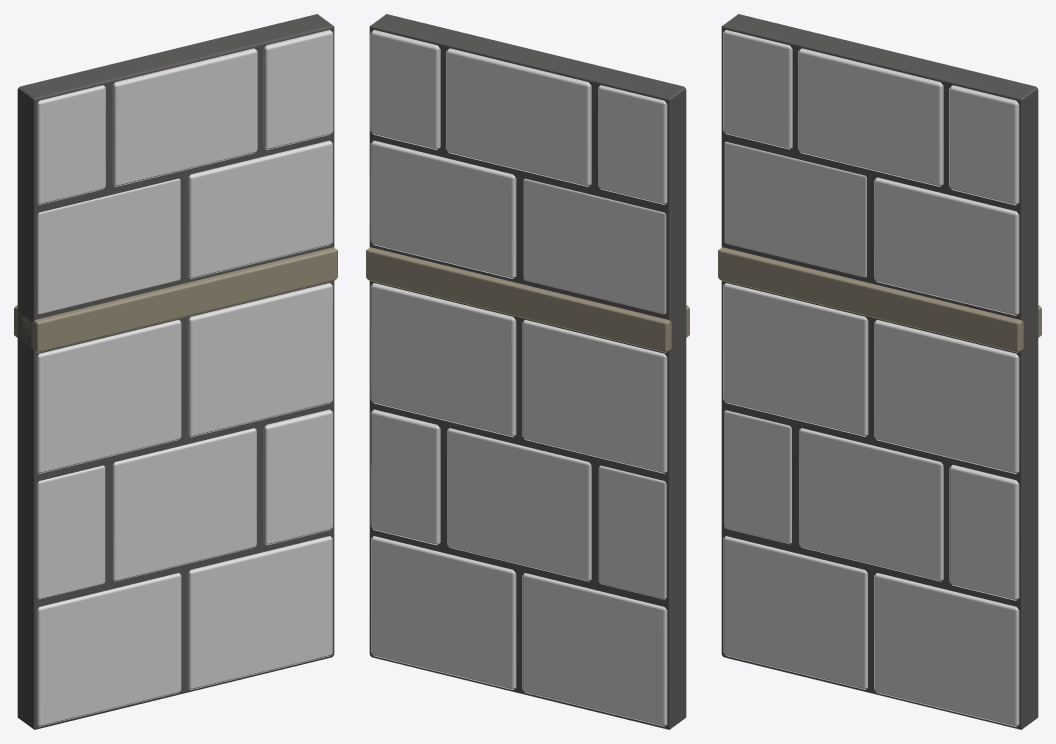
The model's file is stone-halls-wall-ashlar-b.4a390299.glb.
3 renders of one model, left to right at view 1: azimuth 30°, elevation 25°; view 2: azimuth 150°, elevation 25°; view 3: azimuth 330°, elevation 25°, orthographic.
Visible parts, largest first — view 1: body; view 2: body; view 3: body.
Part boxes in pixels (<box>): body: <box>14,14,337,729</box>; body: <box>366,14,689,729</box>; body: <box>718,14,1041,729</box>.
Size of the model in its own units: 1 by 2 by 0.14.
